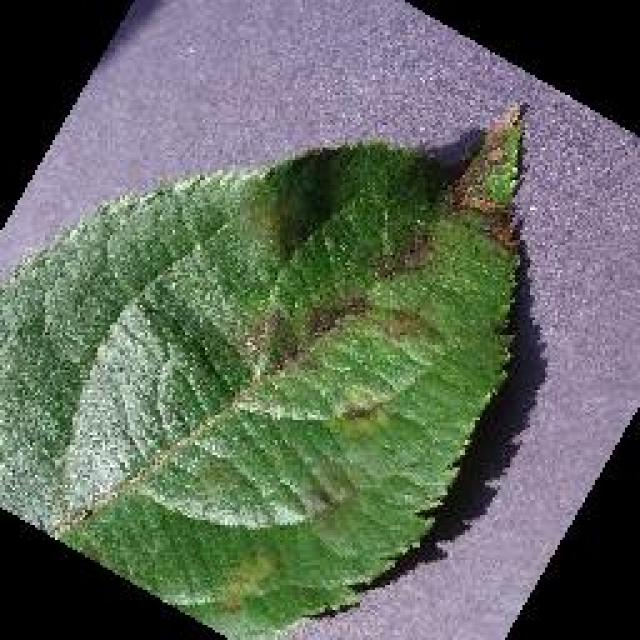apple scab disease: (0, 97, 532, 637)
